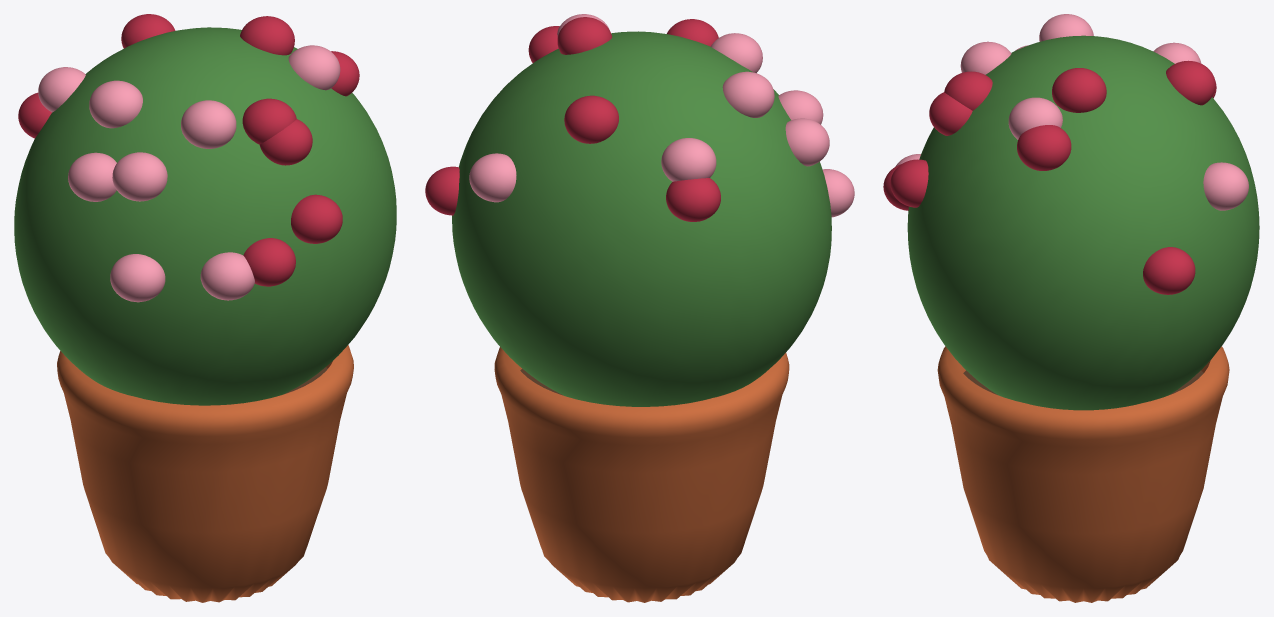
The model's file is deco_rosal.glb.
3 renders of one model, left to right at view 1: azimuth 30°, elevation 25°; view 2: azimuth 150°, elevation 25°; view 3: azimuth 270°, elevation 25°, orthographic.
Parts seen in each view (by area): view 1: arbusto rosal.001, matera.005, rosa rosal 0.001, rosa rosal 8.001, rosa rosal 14.001, rosa rosal 10.001, rosa rosal 7.001, rosa rosal 16.001, rosa rosal 6.001, rosa rosal 1.001, rosa rosal 17.001, rosa rosal 12.001 (+6 smaller); view 2: arbusto rosal.001, matera.005, rosa rosal 15.001, rosa rosal 13.001, rosa rosal 2.001, rosa rosal 4.001, rosa rosal 16.001, rosa rosal 6.001, rosa rosal 5.001, rosa rosal 3.001, rosa rosal 8.001, rosa rosal 0.001 (+3 smaller); view 3: arbusto rosal.001, matera.005, rosa rosal 11.001, rosa rosal 3.001, rosa rosal 5.001, rosa rosal 4.001, rosa rosal 15.001, rosa rosal 12.001, rosa rosal 7.001, rosa rosal 17.001, rosa rosal 9.001, rosa rosal 8.001 (+2 smaller).
Boxes of the visible parts, x1,y1,x2,y2 form: arbusto rosal.001: [14, 27, 396, 405]; matera.005: [57, 345, 353, 602]; rosa rosal 0.001: [112, 152, 167, 201]; rosa rosal 8.001: [181, 100, 236, 148]; rosa rosal 14.001: [110, 254, 165, 302]; rosa rosal 10.001: [200, 252, 254, 300]; rosa rosal 7.001: [291, 194, 342, 243]; rosa rosal 16.001: [89, 80, 142, 128]; rosa rosal 6.001: [68, 152, 116, 201]; rosa rosal 1.001: [243, 238, 295, 286]; rosa rosal 17.001: [242, 98, 296, 144]; rosa rosal 12.001: [288, 45, 340, 90]; arbusto rosal.001: [452, 31, 831, 406]; matera.005: [494, 347, 789, 602]; rosa rosal 15.001: [564, 95, 618, 143]; rosa rosal 13.001: [666, 178, 720, 221]; rosa rosal 2.001: [661, 138, 716, 181]; rosa rosal 4.001: [469, 153, 516, 202]; rosa rosal 16.001: [722, 71, 774, 117]; rosa rosal 6.001: [785, 118, 829, 166]; rosa rosal 5.001: [557, 17, 611, 54]; rosa rosal 3.001: [425, 166, 459, 215]; rosa rosal 8.001: [710, 33, 762, 73]; rosa rosal 0.001: [778, 90, 823, 124]; arbusto rosal.001: [907, 35, 1259, 410]; matera.005: [937, 346, 1229, 602]; rosa rosal 11.001: [1017, 125, 1071, 170]; rosa rosal 3.001: [1143, 247, 1195, 294]; rosa rosal 5.001: [1052, 68, 1106, 112]; rosa rosal 4.001: [1203, 162, 1248, 210]; rosa rosal 15.001: [1166, 60, 1215, 105]; rosa rosal 12.001: [1008, 97, 1062, 139]; rosa rosal 7.001: [890, 159, 928, 207]; rosa rosal 17.001: [944, 71, 992, 110]; rosa rosal 9.001: [929, 92, 972, 135]; rosa rosal 8.001: [960, 41, 1011, 74].
Bounding box in the file's own units: 0.48 × 0.7341 × 0.4671.
